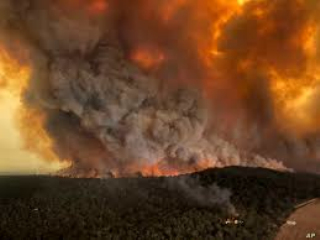smoke: (33, 51, 284, 178), (180, 172, 246, 226)
